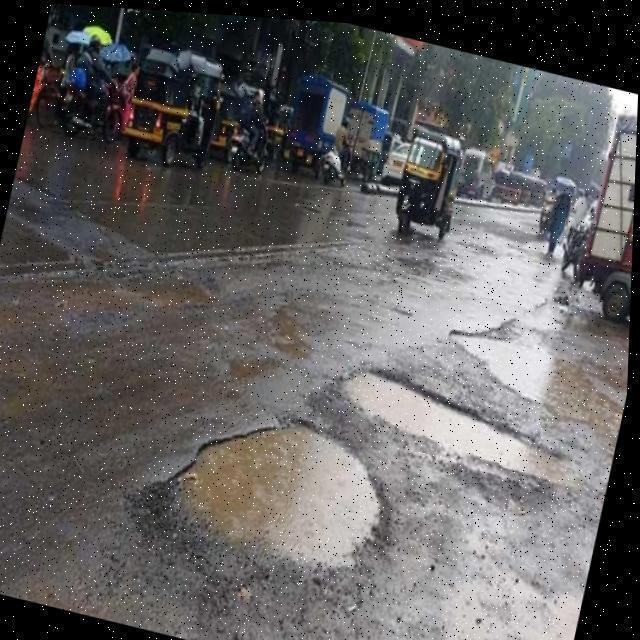Pothole: (140, 411, 397, 584), (337, 365, 564, 473), (448, 324, 624, 443)
